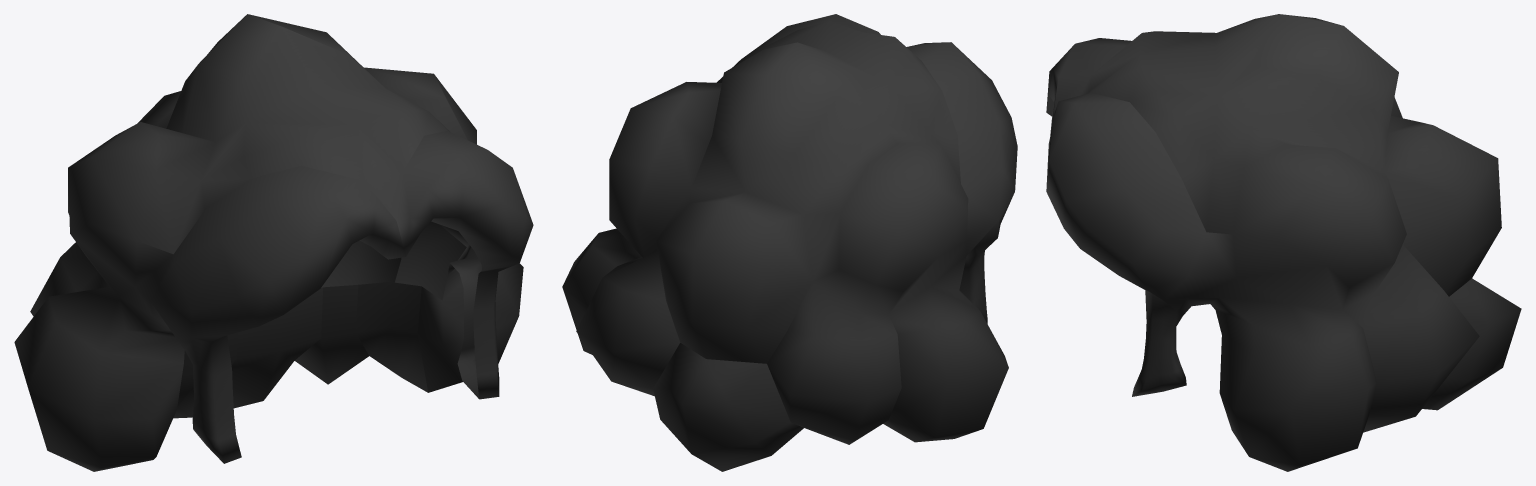
Rendered from Hair_Black_17.fbx.
3 renders of one model, left to right at view 1: azimuth 30°, elevation 25°; view 2: azimuth 150°, elevation 25°; view 3: azimuth 270°, elevation 25°, orthographic. The views are drawn at different scales.
Parts seen in each view (by area): view 1: Hair_Black_17; view 2: Hair_Black_17; view 3: Hair_Black_17.
Part boxes in pixels (box(x1,y1,x2,y2)): Hair_Black_17: box(14, 14, 533, 471); Hair_Black_17: box(562, 14, 1017, 471); Hair_Black_17: box(1046, 14, 1521, 471).
Bounding box in the file's own units: 85.16 × 70.13 × 76.23.
